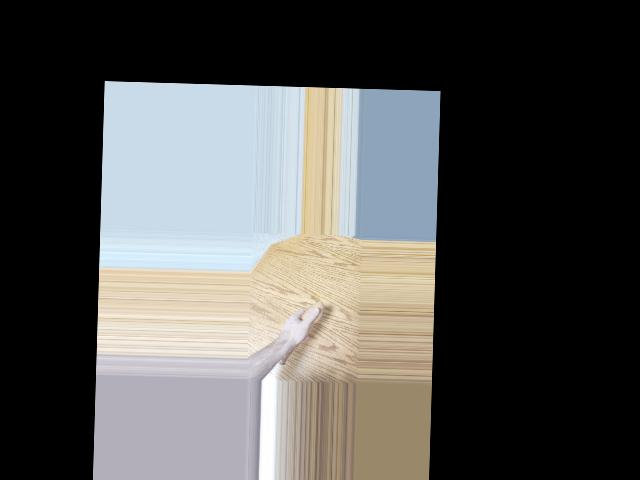sweet_potato: (275, 299, 323, 368)
